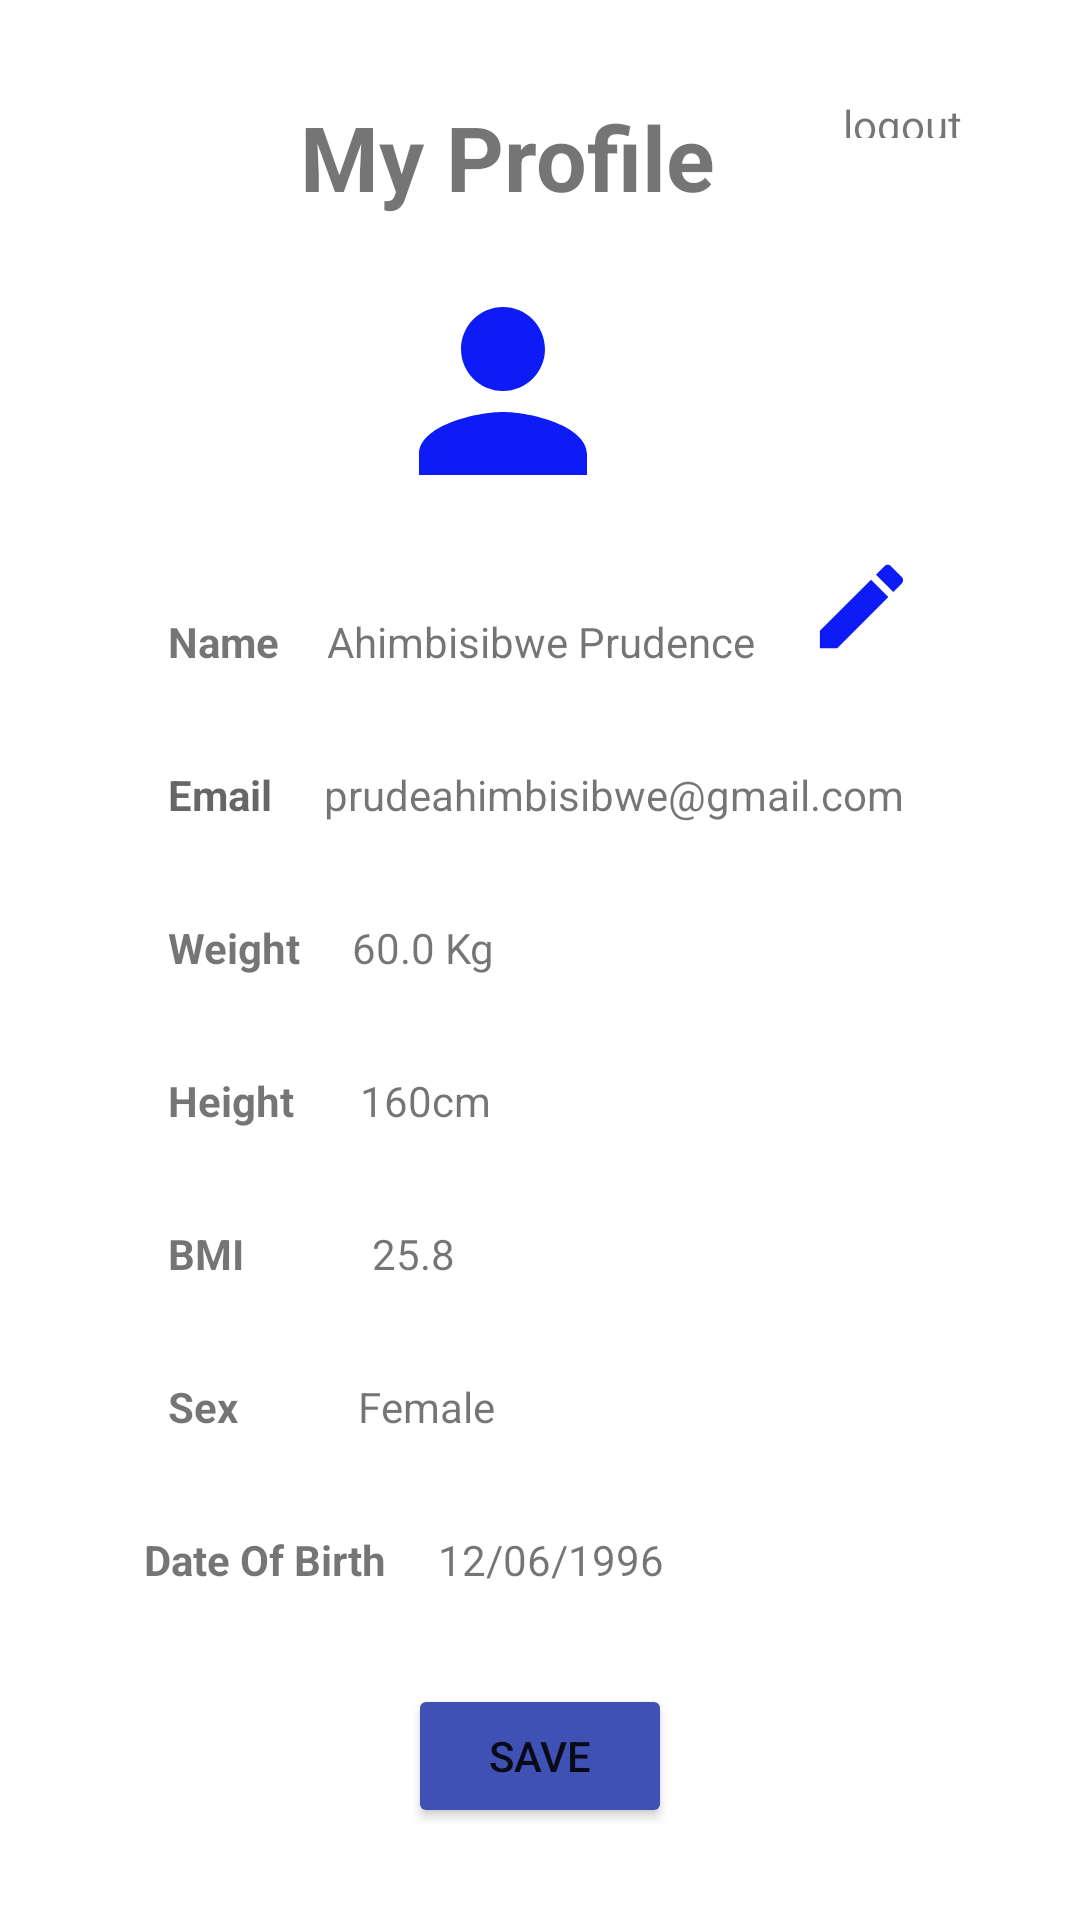

Point at icon controls on the screen. Image size 1080×1920, points as point (x, y).
edit: point (861, 606)
person: point (503, 391)
